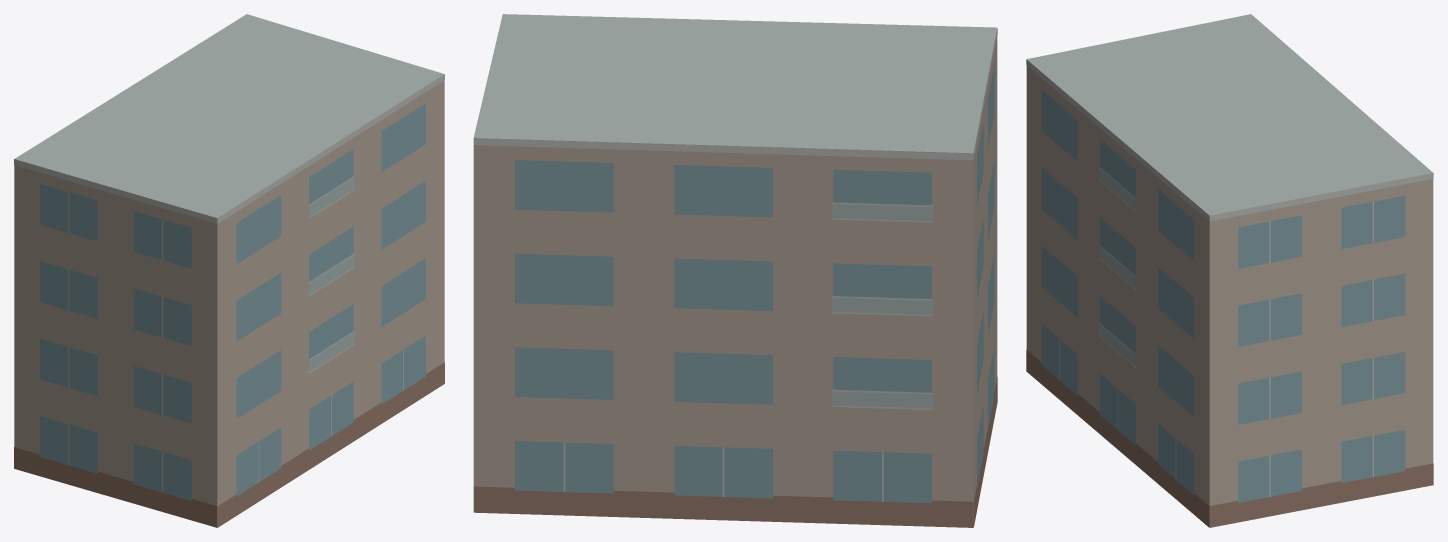
File: survey-upis-32704768.glb
3 renders of one model, left to right at view 1: azimuth 30°, elevation 25°; view 2: azimuth 150°, elevation 25°; view 3: azimuth 270°, elevation 25°, orthographic. The views are drawn at different scales.
Parts seen in each view (by area): view 1: survey-upis-32704768.tmp; view 2: survey-upis-32704768.tmp; view 3: survey-upis-32704768.tmp.
Boxes of the visible parts, left/top/right/bottom form: survey-upis-32704768.tmp: left=14, top=14, right=444, bottom=527; survey-upis-32704768.tmp: left=473, top=14, right=997, bottom=527; survey-upis-32704768.tmp: left=1026, top=14, right=1433, bottom=527.
Bounding box in the file's own units: 17.74 × 12.8 × 15.13.
